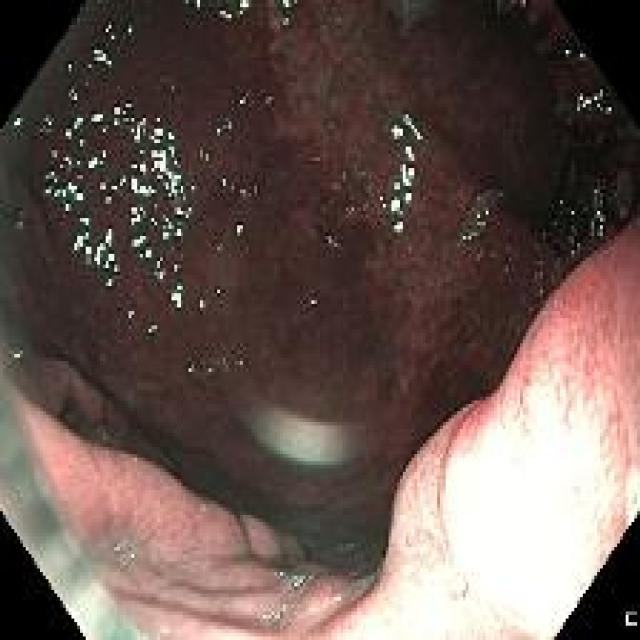bubbles: (308, 180, 339, 216), (265, 604, 284, 625), (287, 572, 306, 591), (185, 359, 199, 378), (311, 145, 322, 168), (308, 293, 319, 314), (272, 564, 286, 579), (234, 353, 247, 369), (204, 363, 216, 380), (326, 234, 338, 251), (341, 164, 352, 182)
color misalignment: (2, 381, 138, 633), (250, 394, 364, 466)
contrast: (467, 13, 630, 251), (175, 454, 386, 561)
saturation: (350, 343, 638, 639)
specularity: (129, 115, 190, 243), (70, 215, 121, 290), (42, 148, 87, 220), (390, 142, 419, 237), (392, 112, 427, 147), (571, 88, 616, 115), (99, 176, 132, 207), (87, 42, 117, 75), (461, 207, 491, 237), (221, 178, 259, 201), (168, 275, 188, 316), (216, 2, 253, 23), (39, 107, 57, 144), (213, 110, 236, 137), (65, 80, 85, 110), (144, 245, 162, 278), (62, 110, 80, 141), (86, 144, 108, 169), (142, 316, 162, 342), (60, 57, 76, 84), (121, 21, 138, 45), (9, 341, 25, 364), (99, 17, 113, 43), (375, 192, 391, 214), (9, 116, 24, 138), (184, 360, 201, 379), (195, 145, 212, 164), (168, 259, 181, 281), (576, 46, 590, 66), (90, 106, 103, 126), (203, 364, 220, 379), (561, 47, 575, 65), (188, 180, 201, 198), (185, 0, 204, 12), (236, 93, 249, 110), (307, 293, 318, 313), (124, 305, 138, 320), (212, 285, 224, 302), (196, 298, 207, 316), (235, 355, 248, 370), (280, 1, 299, 11), (231, 226, 244, 239), (342, 167, 352, 183), (314, 150, 324, 165), (519, 0, 528, 10), (77, 7, 85, 14), (281, 18, 288, 25), (274, 612, 280, 619), (260, 613, 265, 620), (295, 582, 299, 588)
